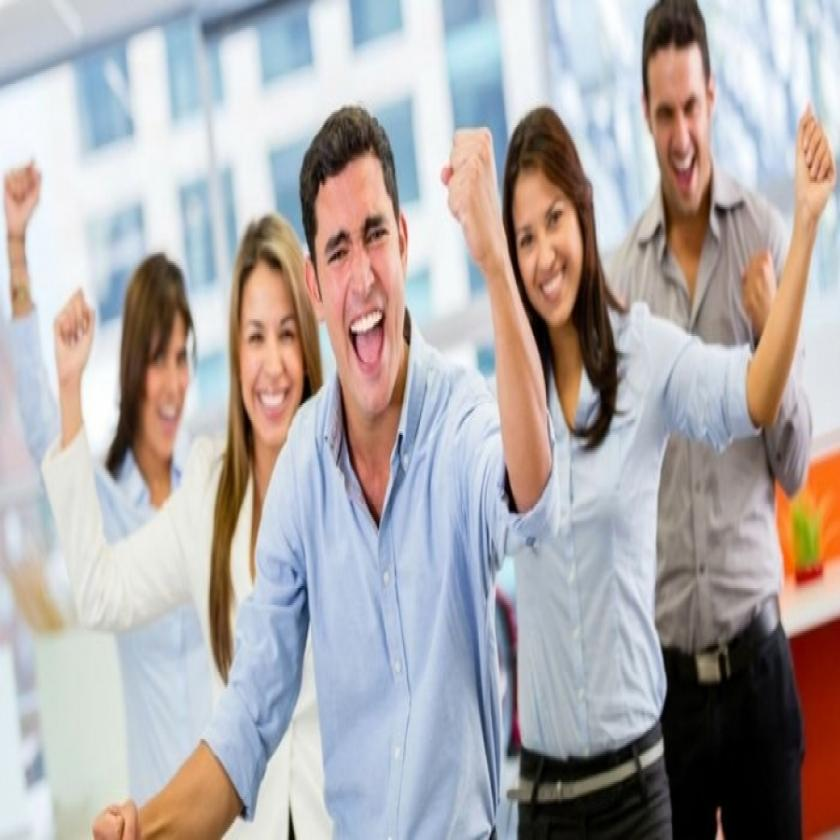Sin_casco: (306, 106, 412, 429), (500, 106, 590, 342), (228, 213, 308, 449), (115, 245, 196, 458), (639, 0, 720, 209)
